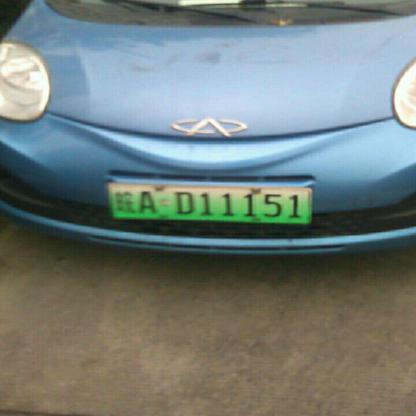lp: (109, 185, 309, 223)
